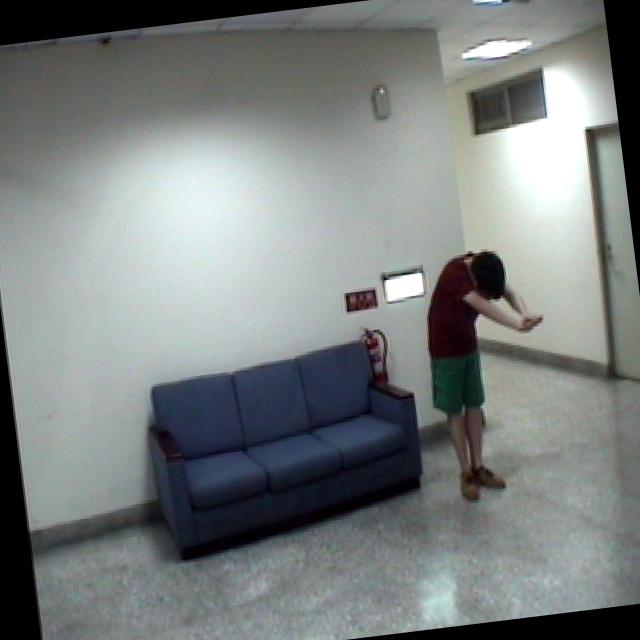bend: (400, 244, 558, 511)
